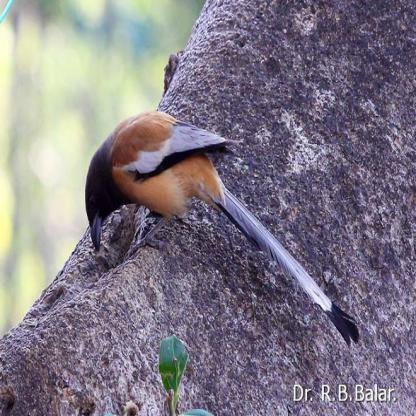Burung: (84, 111, 360, 347)
